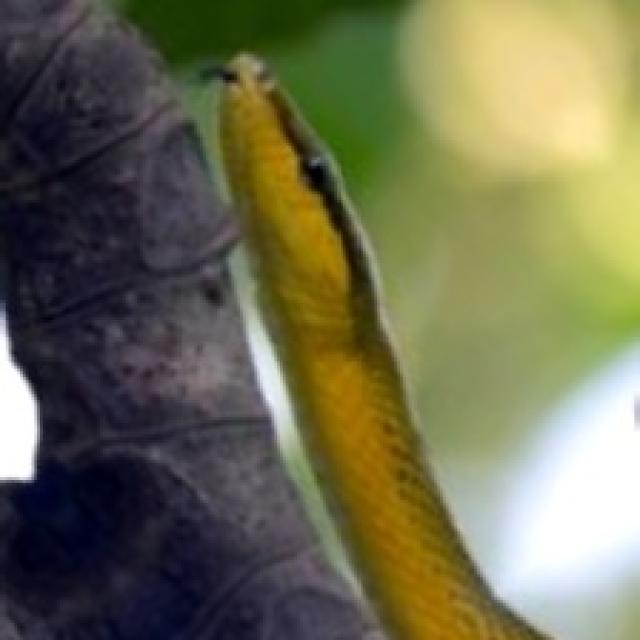red-tailed green ratsnake: (220, 54, 546, 637)
